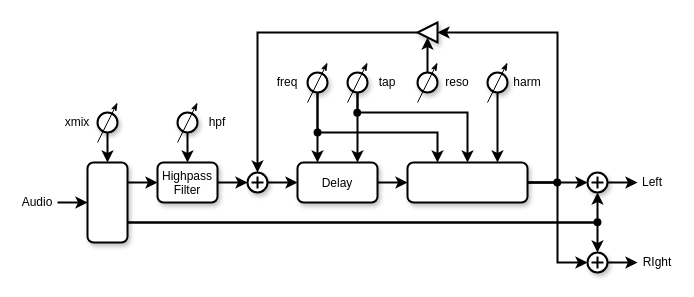
Some shapes in this 694 by 297 pixel diagram are drawn without their labels. The shapes that lost their labels are listed below. From the top down, each one's centre as x and y in pixels, then its label:
the point at 108,203: Cross Mix
the point at 468,183: Absorptive Allpass Reverberator
